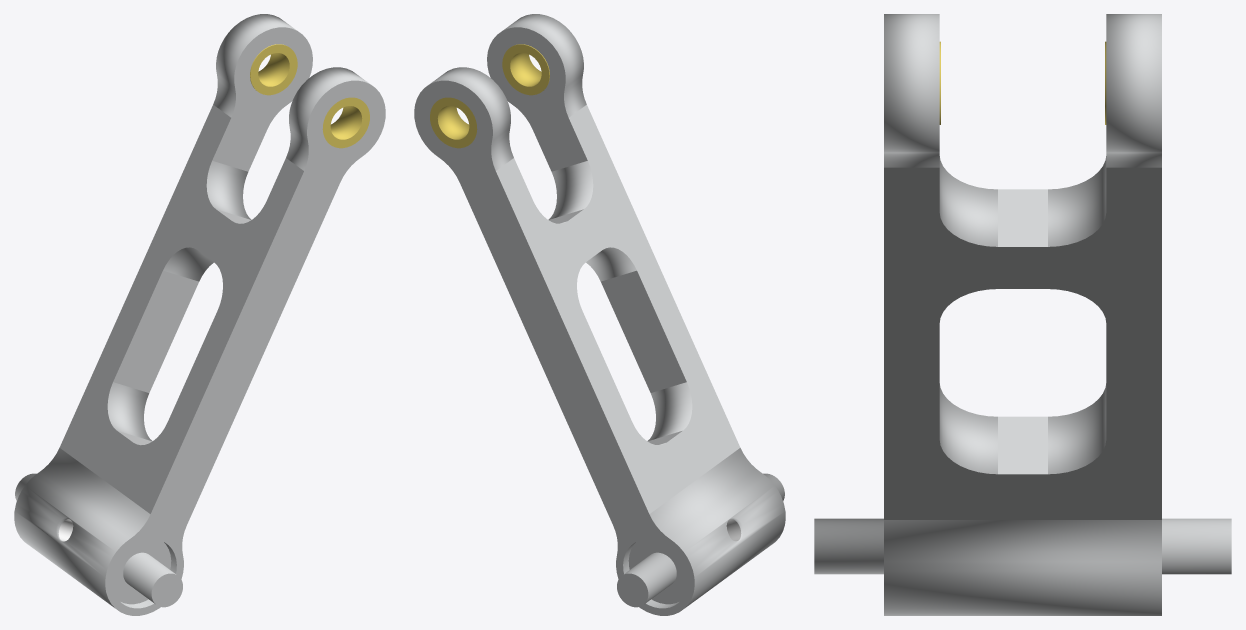
The model's file is rg2_finger_truss_bar.dae.
The picture shows the model from 3 angles, left to right: view 1: azimuth 30°, elevation 25°; view 2: azimuth 150°, elevation 25°; view 3: azimuth 270°, elevation 25°; orthographic projection. The views are drawn at different scales.
Visible parts, largest first — view 1: _ncl1_36_001, _ncl1_35_001, _ncl1_38_001; view 2: _ncl1_36_001, _ncl1_38_001, _ncl1_35_001; view 3: _ncl1_36_001.
Part boxes in pixels (x1,y1,x2,y2): _ncl1_36_001: [14, 14, 385, 615]; _ncl1_35_001: [250, 44, 297, 95]; _ncl1_38_001: [322, 97, 369, 148]; _ncl1_36_001: [414, 14, 785, 615]; _ncl1_38_001: [502, 44, 549, 95]; _ncl1_35_001: [430, 97, 477, 148]; _ncl1_36_001: [814, 14, 1231, 615].
Size of the model in its own units: 0.0356 by 0.03 by 0.0587.
